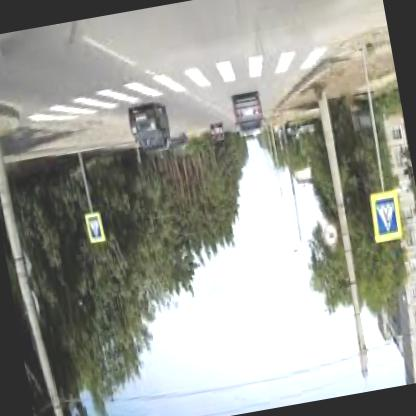crosswalk: (372, 202, 400, 238), (86, 219, 100, 242)
